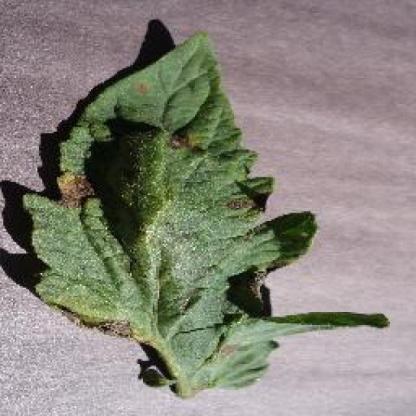Tomato_Blight: (21, 37, 386, 370)
